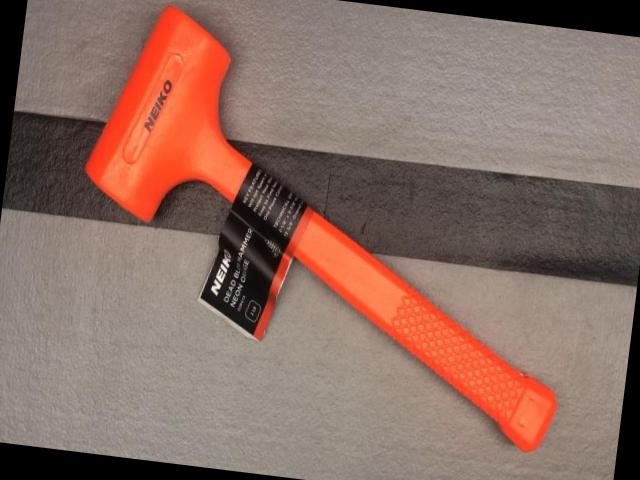hammer: (56, 0, 598, 455)
